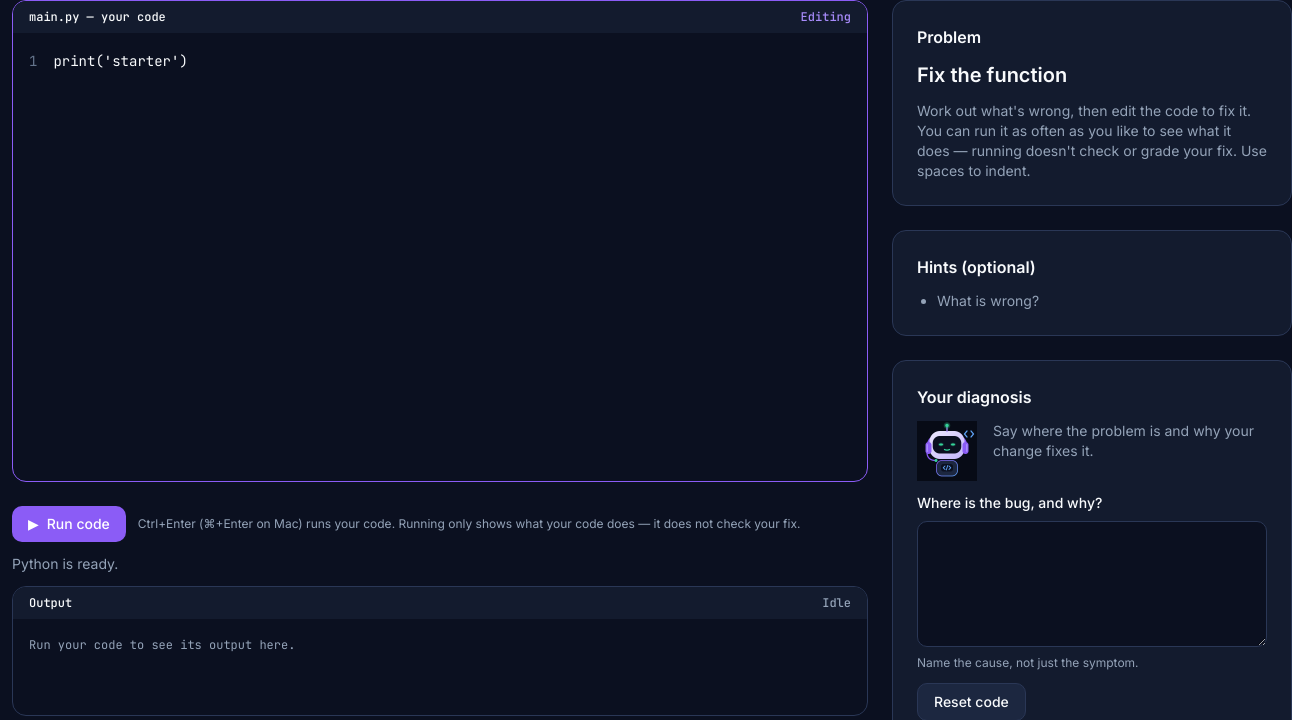
Scenario: Fix stage: Run is unavailable or fails › is permanently off, with no Retry, when the browser does not enforce the runner's CSP (fail closed)
Click the button "▶ Run code" at (69, 524), box 12,506 -> 126,542
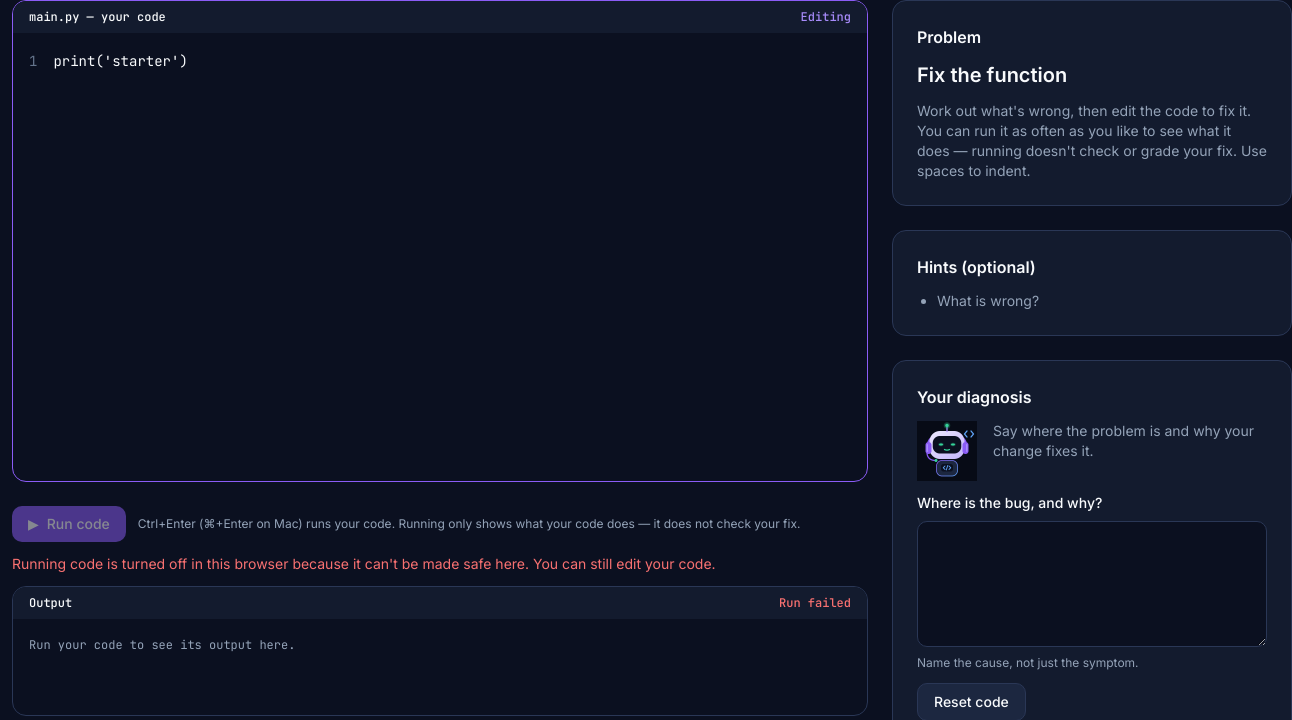
Now the message with test id "run-status" shows "turned off in this browser", box 12,555 -> 716,572
Now the button "▶ Run code" is disabled, box 12,506 -> 126,542
